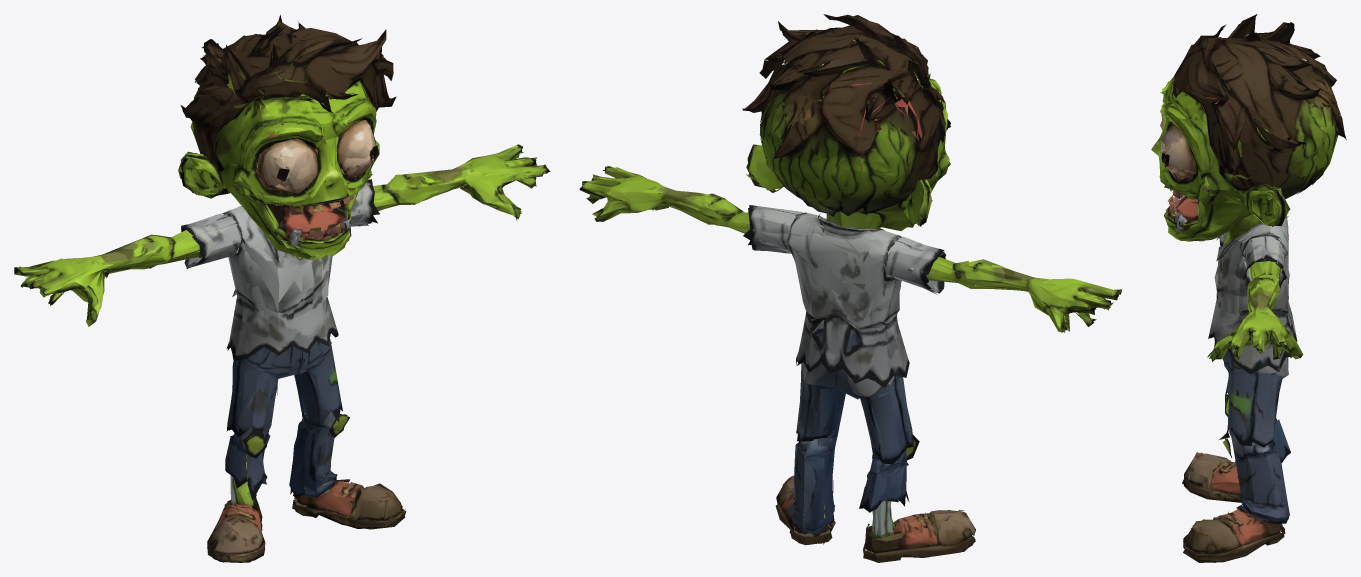
The model's file is Zombie.fbx.
The picture shows the model from 3 angles, left to right: view 1: azimuth 30°, elevation 25°; view 2: azimuth 150°, elevation 25°; view 3: azimuth 270°, elevation 25°; orthographic projection. The views are drawn at different scales.
Parts seen in each view (by area): view 1: Zombie; view 2: Zombie; view 3: Zombie.
Boxes of the visible parts, bbox=[...] form: Zombie: bbox=[14, 15, 550, 562]; Zombie: bbox=[579, 14, 1122, 562]; Zombie: bbox=[1151, 14, 1346, 562].
Size of the model in its own units: 1.94 by 1.8 by 0.6563.
1 material, 1 textured.
